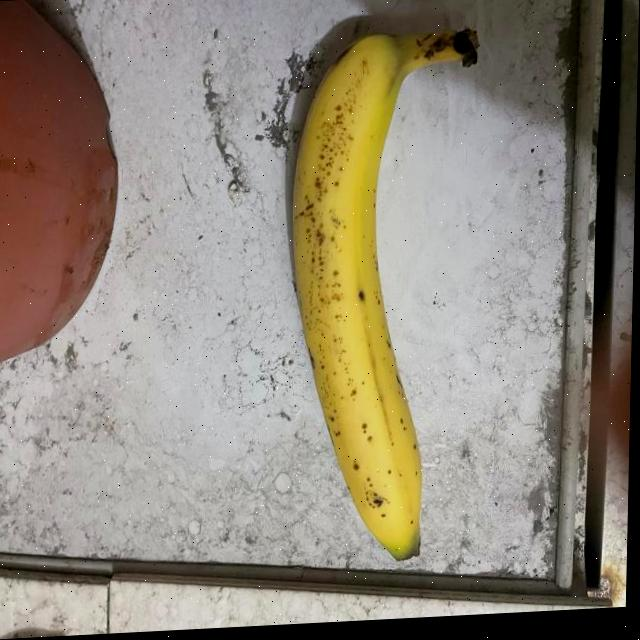banana: (279, 18, 485, 572)
